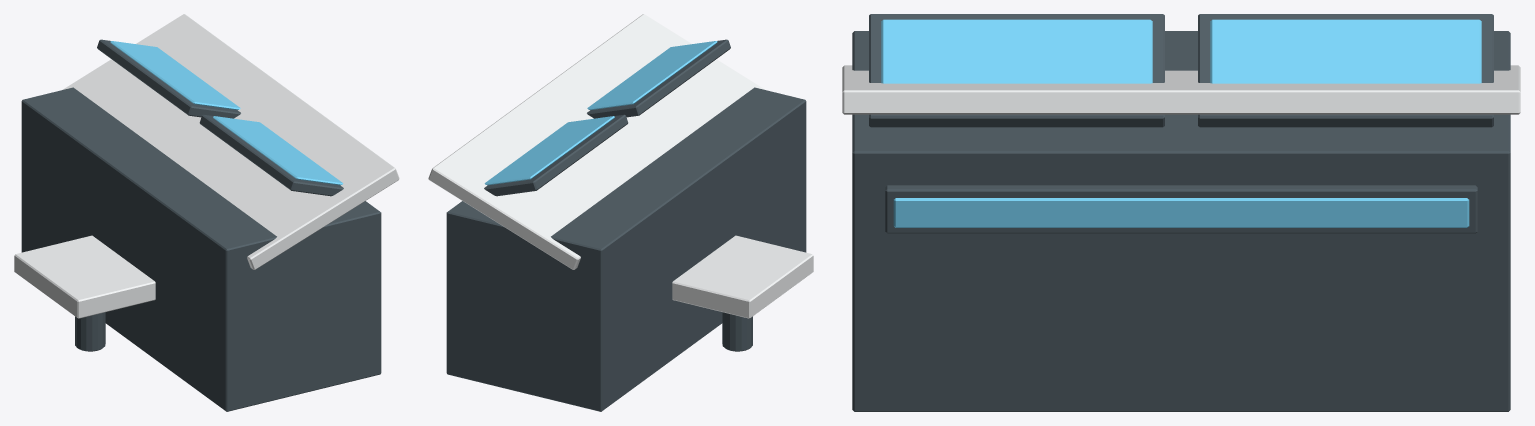
Rendered from SM_Console_Pit.fbx.
The picture shows the model from 3 angles, left to right: view 1: azimuth 30°, elevation 25°; view 2: azimuth 150°, elevation 25°; view 3: azimuth 270°, elevation 25°; orthographic projection. The views are drawn at different scales.
Visible parts, largest first — view 1: SM_Console_Pit; view 2: SM_Console_Pit; view 3: SM_Console_Pit.
Boxes of the visible parts, left/top/right/bottom form: SM_Console_Pit: left=14, top=14, right=399, bottom=411; SM_Console_Pit: left=428, top=14, right=813, bottom=411; SM_Console_Pit: left=842, top=14, right=1520, bottom=411.
Bounding box in the file's own units: 112 × 89.86 × 165.
